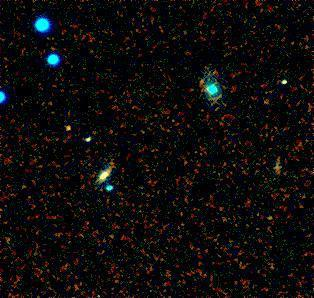star: (53, 113, 83, 143)
